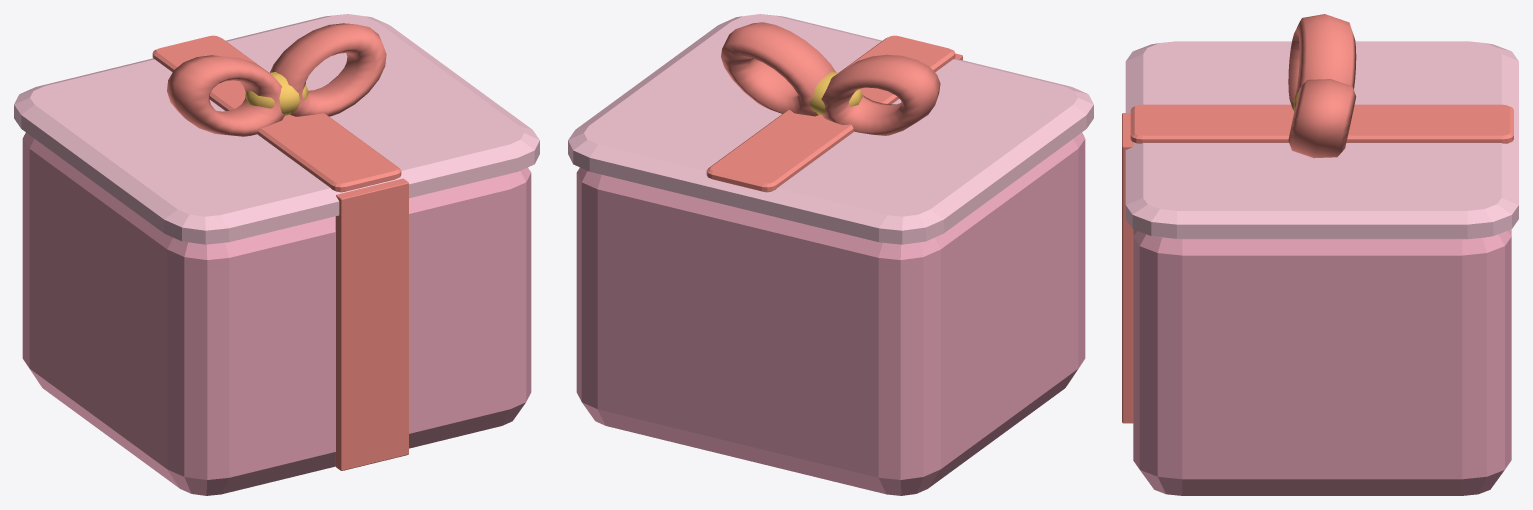
Rendered from fake_prize_box.glb.
The picture shows the model from 3 angles, left to right: view 1: azimuth 30°, elevation 25°; view 2: azimuth 150°, elevation 25°; view 3: azimuth 270°, elevation 25°; orthographic projection.
Parts seen in each view (by area): view 1: carton, lid, model, ribbon; view 2: carton, lid, model, ribbon; view 3: carton, lid, ribbon, model.
Part boxes in pixels (x1,y1,x2,y2): carton: (22,132,531,495); lid: (14,14,539,244); model: (167,23,408,470); ribbon: (152,35,401,192); carton: (576,132,1085,495); lid: (568,14,1093,244); model: (721,22,962,135); ribbon: (706,35,955,192); carton: (1133,229,1511,495); lid: (1125,41,1518,239); ribbon: (1130,104,1513,143); model: (1122,14,1356,423).
Bounding box in the file's own units: 0.6 × 0.55 × 0.55.
